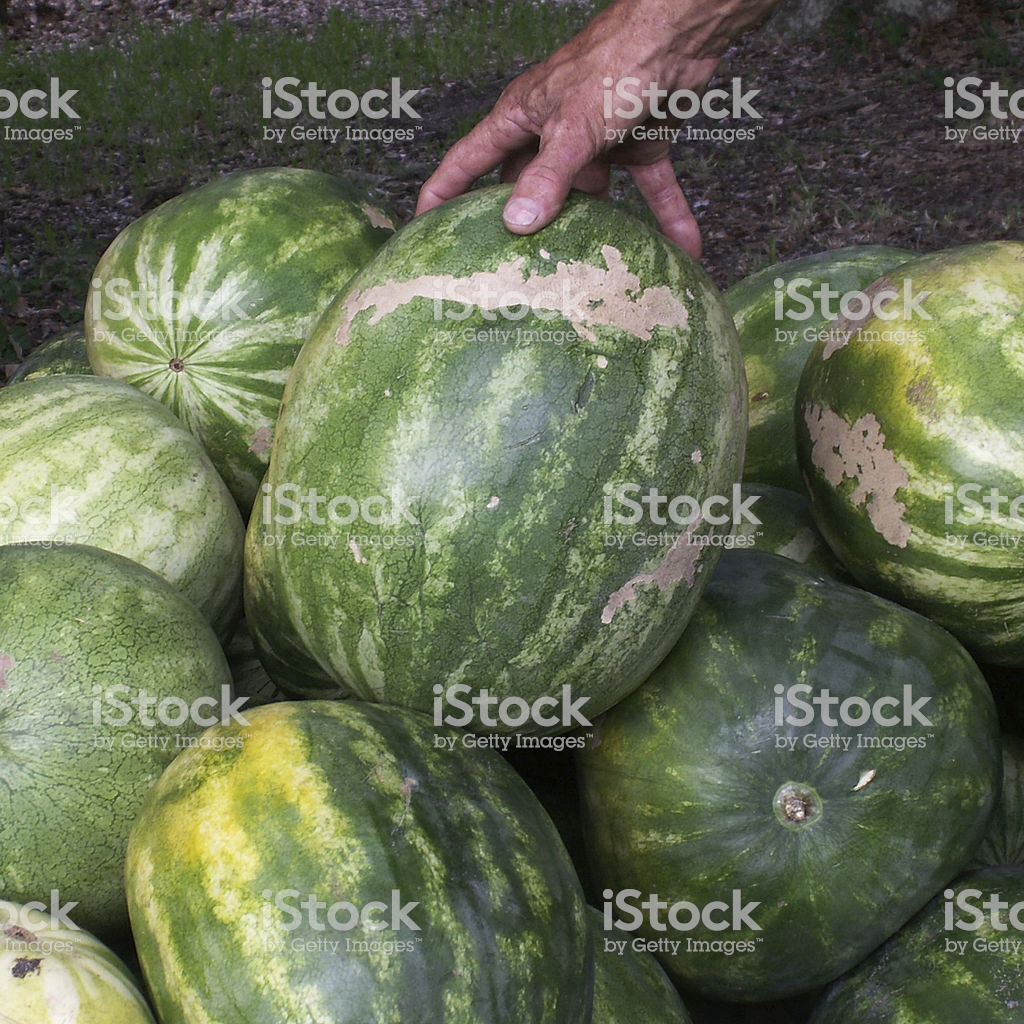damaged_watermelon: (297, 176, 717, 738), (806, 264, 1024, 622)
